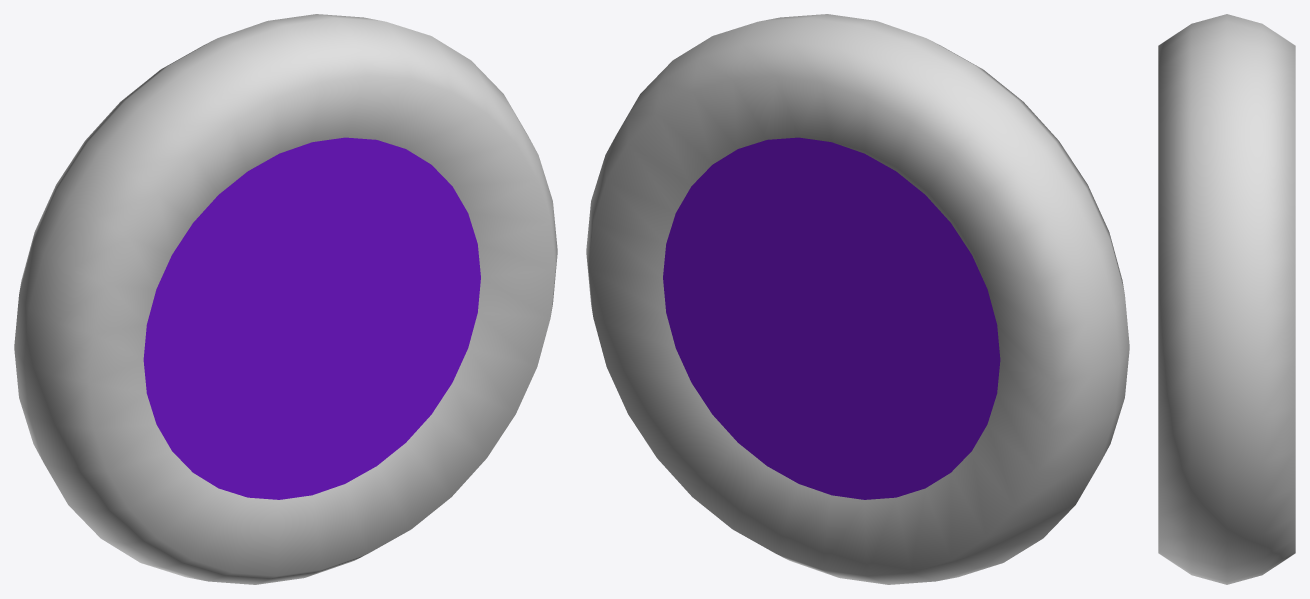
The model's file is хуйня об которую ударяются.fbx.
The picture shows the model from 3 angles, left to right: view 1: azimuth 30°, elevation 25°; view 2: azimuth 150°, elevation 25°; view 3: azimuth 270°, elevation 25°; orthographic projection. The views are drawn at different scales.
Parts seen in each view (by area): view 1: Cylinder, Cylinder.006; view 2: Cylinder, Cylinder.006; view 3: Cylinder.
Boxes of the visible parts, x1,y1,x2,y2 form: Cylinder: (14, 14, 557, 584); Cylinder.006: (143, 137, 480, 499); Cylinder: (586, 14, 1129, 584); Cylinder.006: (663, 137, 1000, 499); Cylinder: (1158, 14, 1295, 584).
Bounding box in the file's own units: 26.72 × 26.72 × 6.42.
